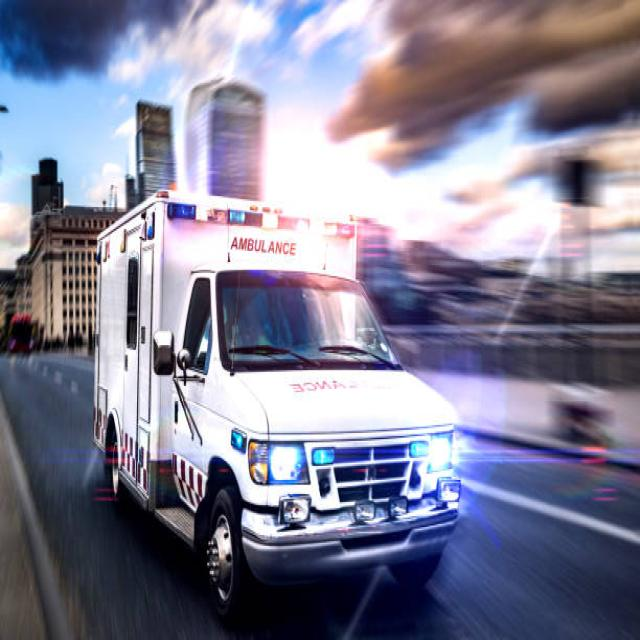emergency: (94, 193, 460, 621)
